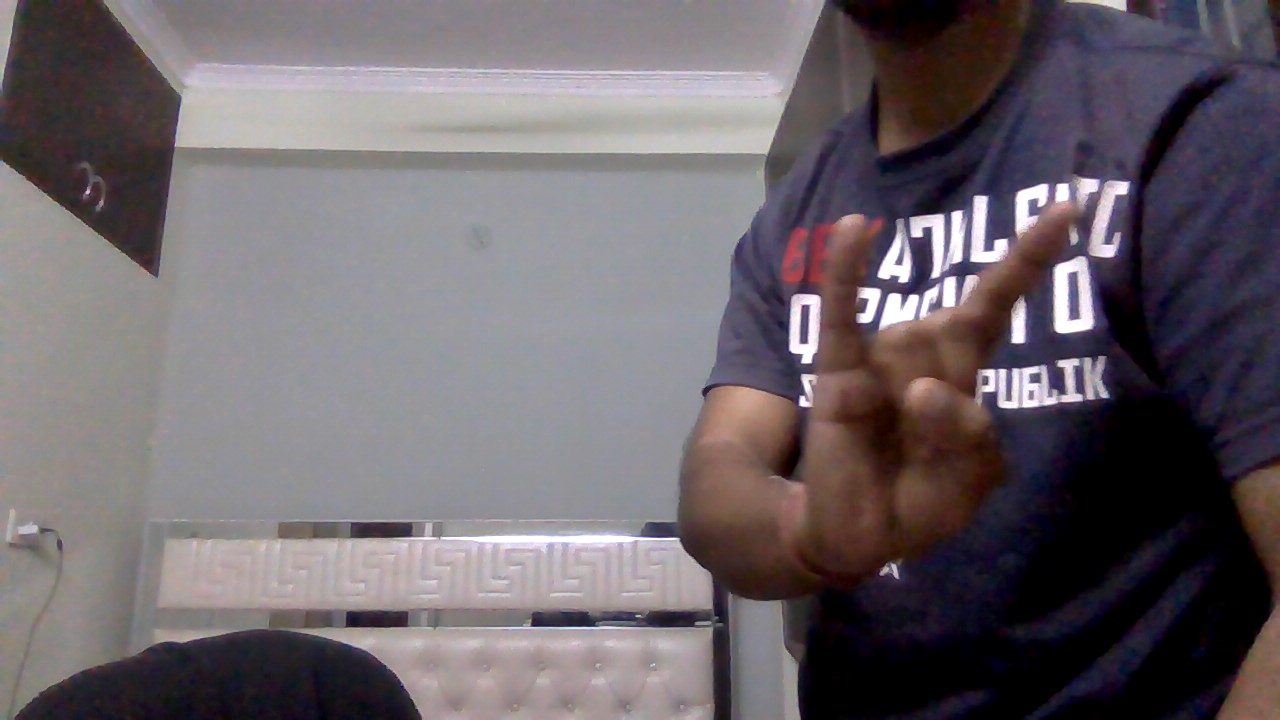Select All: (807, 193, 1092, 581)
